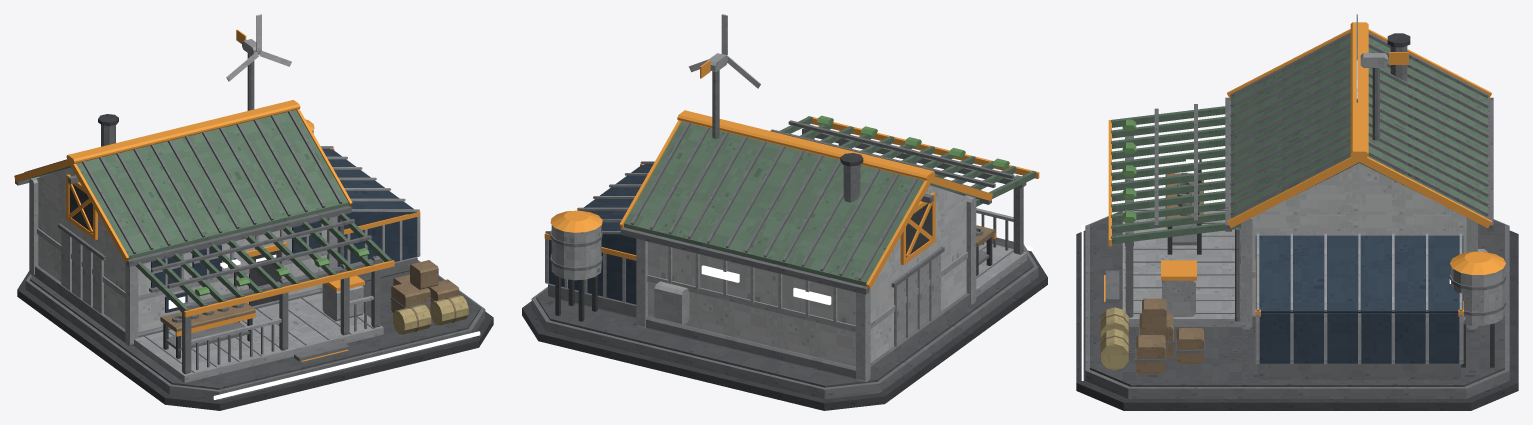
The model's file is farmhouse_lod1.glb.
3 views of the same model, side by side, from view 1: azimuth 30°, elevation 25°; view 2: azimuth 150°, elevation 25°; view 3: azimuth 270°, elevation 25° (orthographic). The views are drawn at different scales.
Visible parts, largest first — view 1: farmhouse_base_body.001, farmhouse_base_trim.001, farmhouse_bench_body.001, farmhouse_inlay_glow.001, farmhouse_rotor_body.001; view 2: farmhouse_base_body.001, farmhouse_base_trim.001, farmhouse_base_glow.001, farmhouse_rotor_body.001, farmhouse_bench_body.001; view 3: farmhouse_base_body.001, farmhouse_base_trim.001, farmhouse_bench_body.001, farmhouse_inlay_glow.001.
Part boxes in pixels (x1,y1,x2,y2): farmhouse_base_body.001: (15, 39, 493, 410); farmhouse_base_trim.001: (14, 29, 420, 361); farmhouse_bench_body.001: (160, 258, 255, 358); farmhouse_inlay_glow.001: (213, 331, 480, 399); farmhouse_rotor_body.001: (226, 14, 291, 81); farmhouse_base_body.001: (522, 53, 1047, 410); farmhouse_base_trim.001: (544, 60, 1039, 289); farmhouse_base_glow.001: (701, 265, 831, 305); farmhouse_rotor_body.001: (688, 14, 760, 88); farmhouse_bench_body.001: (976, 225, 995, 275); farmhouse_base_body.001: (1076, 32, 1518, 410); farmhouse_base_trim.001: (1104, 22, 1505, 316); farmhouse_bench_body.001: (1165, 159, 1203, 254); farmhouse_inlay_glow.001: (1081, 224, 1083, 380).
Bounding box in the file's own units: 3.96 × 3.11 × 3.92.
Materials: 3 (1 with a texture image).
